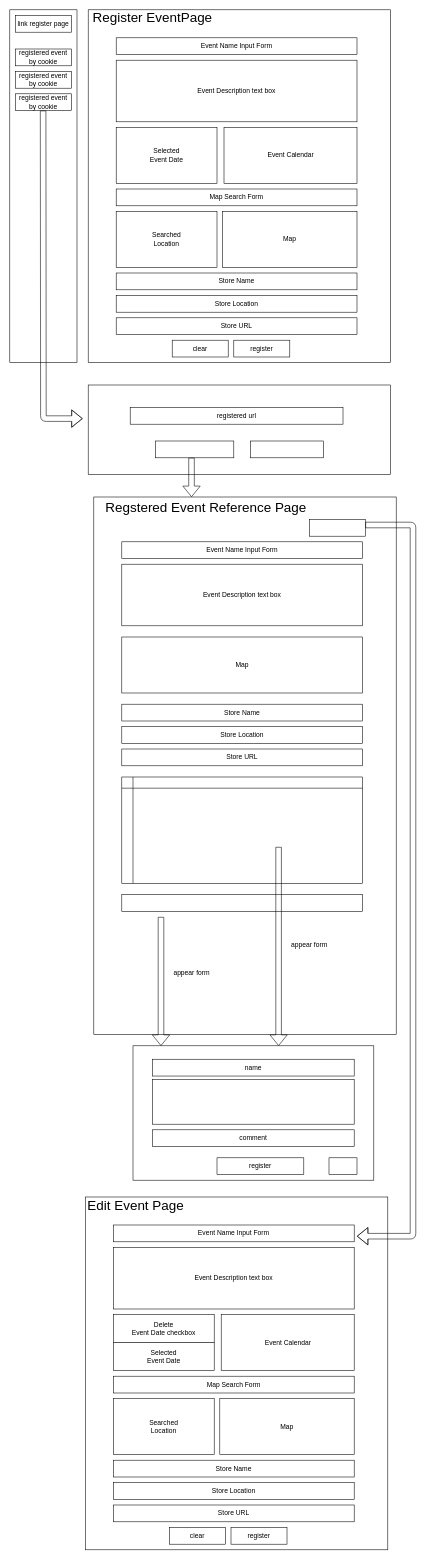
The diagram is 426 pixels wide and 1560 high, and some of its shapes have lost their labels. Here are the shapes that lost their labels. From the top down, the centre of each, then its label:
At pixel 194 449: "link registered event page".
At pixel 286 449: "clipboard copy button".
At pixel 337 527: "edit button".
At pixel 242 829: "Attendance Matrix row: date column: 〇 × △、name1, name2, ...".
At pixel 242 902: "Attend Button".
At pixel 253 1101: "event date: 〇 × △".
At pixel 342 1166: "delete".
